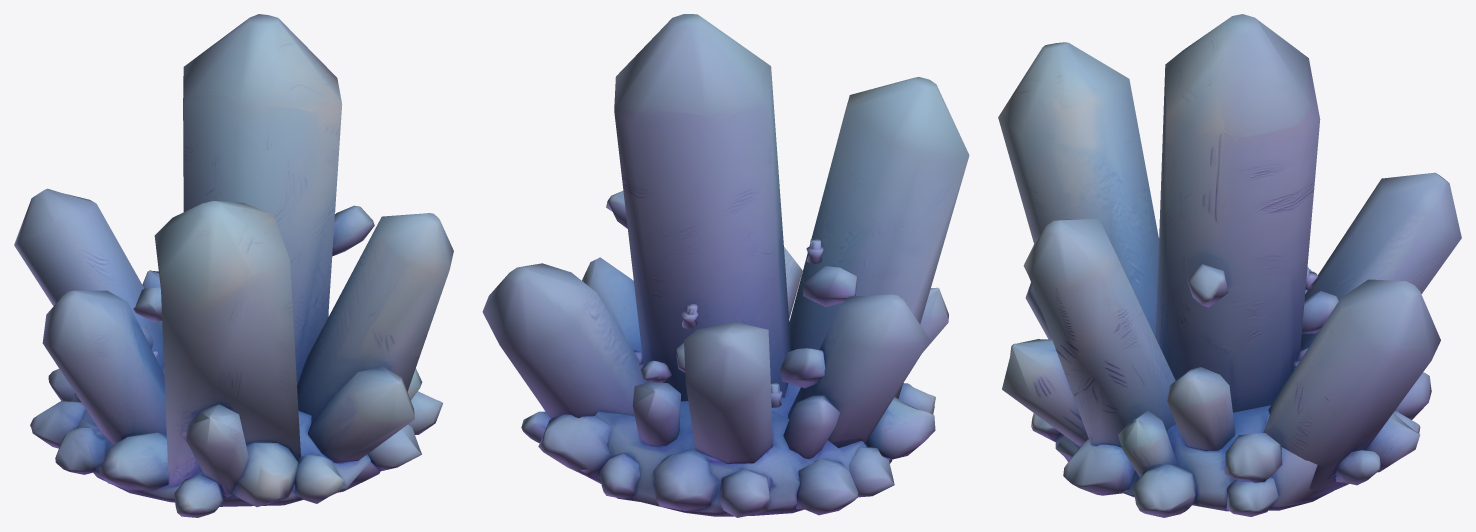
File: resource-crystal.glb
3 renders of one model, left to right at view 1: azimuth 30°, elevation 25°; view 2: azimuth 150°, elevation 25°; view 3: azimuth 270°, elevation 25°, orthographic. The views are drawn at different scales.
Visible parts, largest first — view 1: tripo_node_55a0339c-d4ec-4015-8bd2-0c5aa0fb7eb2; view 2: tripo_node_55a0339c-d4ec-4015-8bd2-0c5aa0fb7eb2; view 3: tripo_node_55a0339c-d4ec-4015-8bd2-0c5aa0fb7eb2.
Part boxes in pixels (x1,y1,x2,y2): tripo_node_55a0339c-d4ec-4015-8bd2-0c5aa0fb7eb2: (14,14,453,517); tripo_node_55a0339c-d4ec-4015-8bd2-0c5aa0fb7eb2: (482,14,969,517); tripo_node_55a0339c-d4ec-4015-8bd2-0c5aa0fb7eb2: (998,14,1461,517).
Bounding box in the file's own units: 0.9199 × 0.998 × 0.959.
Materials: 1 (1 with a texture image).
